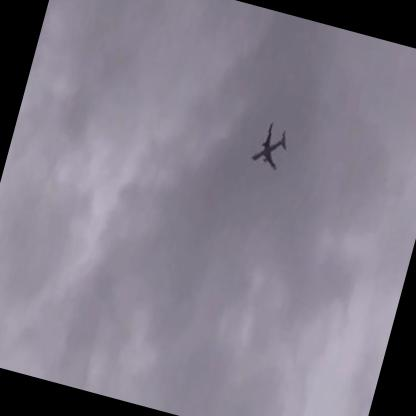plane: (246, 119, 293, 175)
